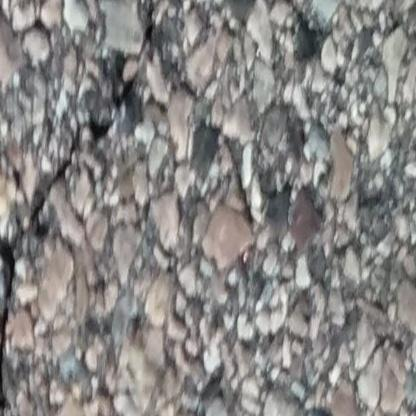Cracks: (0, 0, 176, 416)
